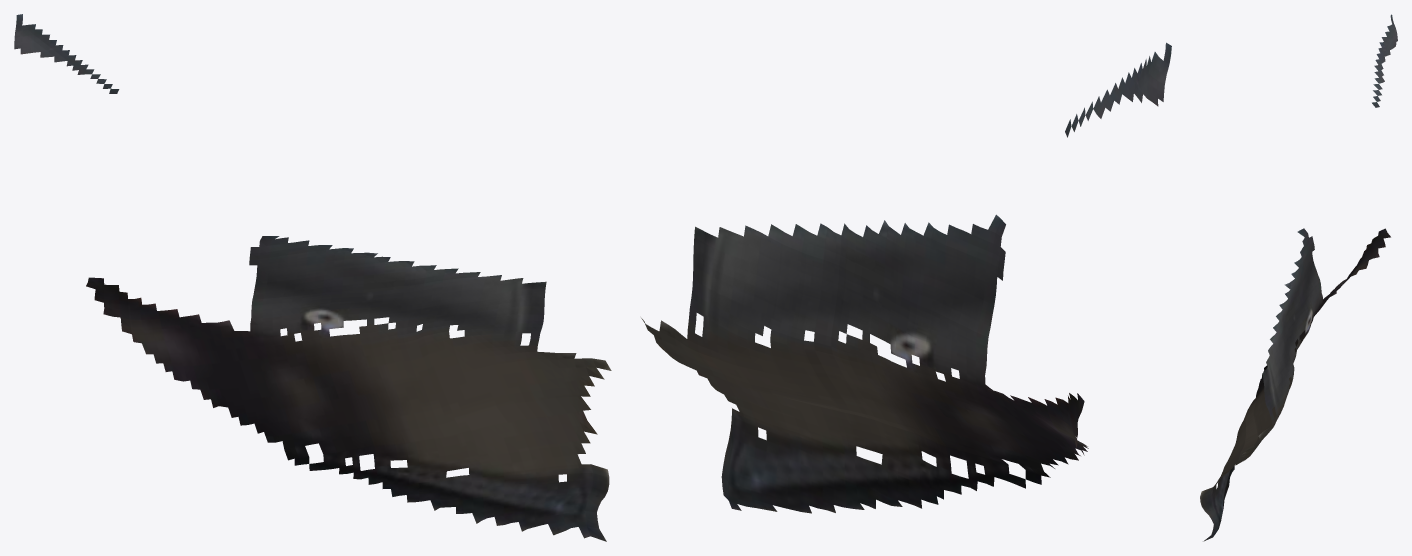
Rendered from observed-surface.glb.
The picture shows the model from 3 angles, left to right: view 1: azimuth 30°, elevation 25°; view 2: azimuth 150°, elevation 25°; view 3: azimuth 270°, elevation 25°; orthographic projection. The views are drawn at different scales.
Visible parts, largest first — view 1: geometry_0; view 2: geometry_0; view 3: geometry_0.
Part boxes in pixels (x1,y1,x2,y2): geometry_0: (14, 14, 611, 541); geometry_0: (641, 42, 1171, 513); geometry_0: (1200, 14, 1397, 541).
Bounding box in the file's own units: 0.4395 × 0.4643 × 0.2225.
1 material, 1 textured.
